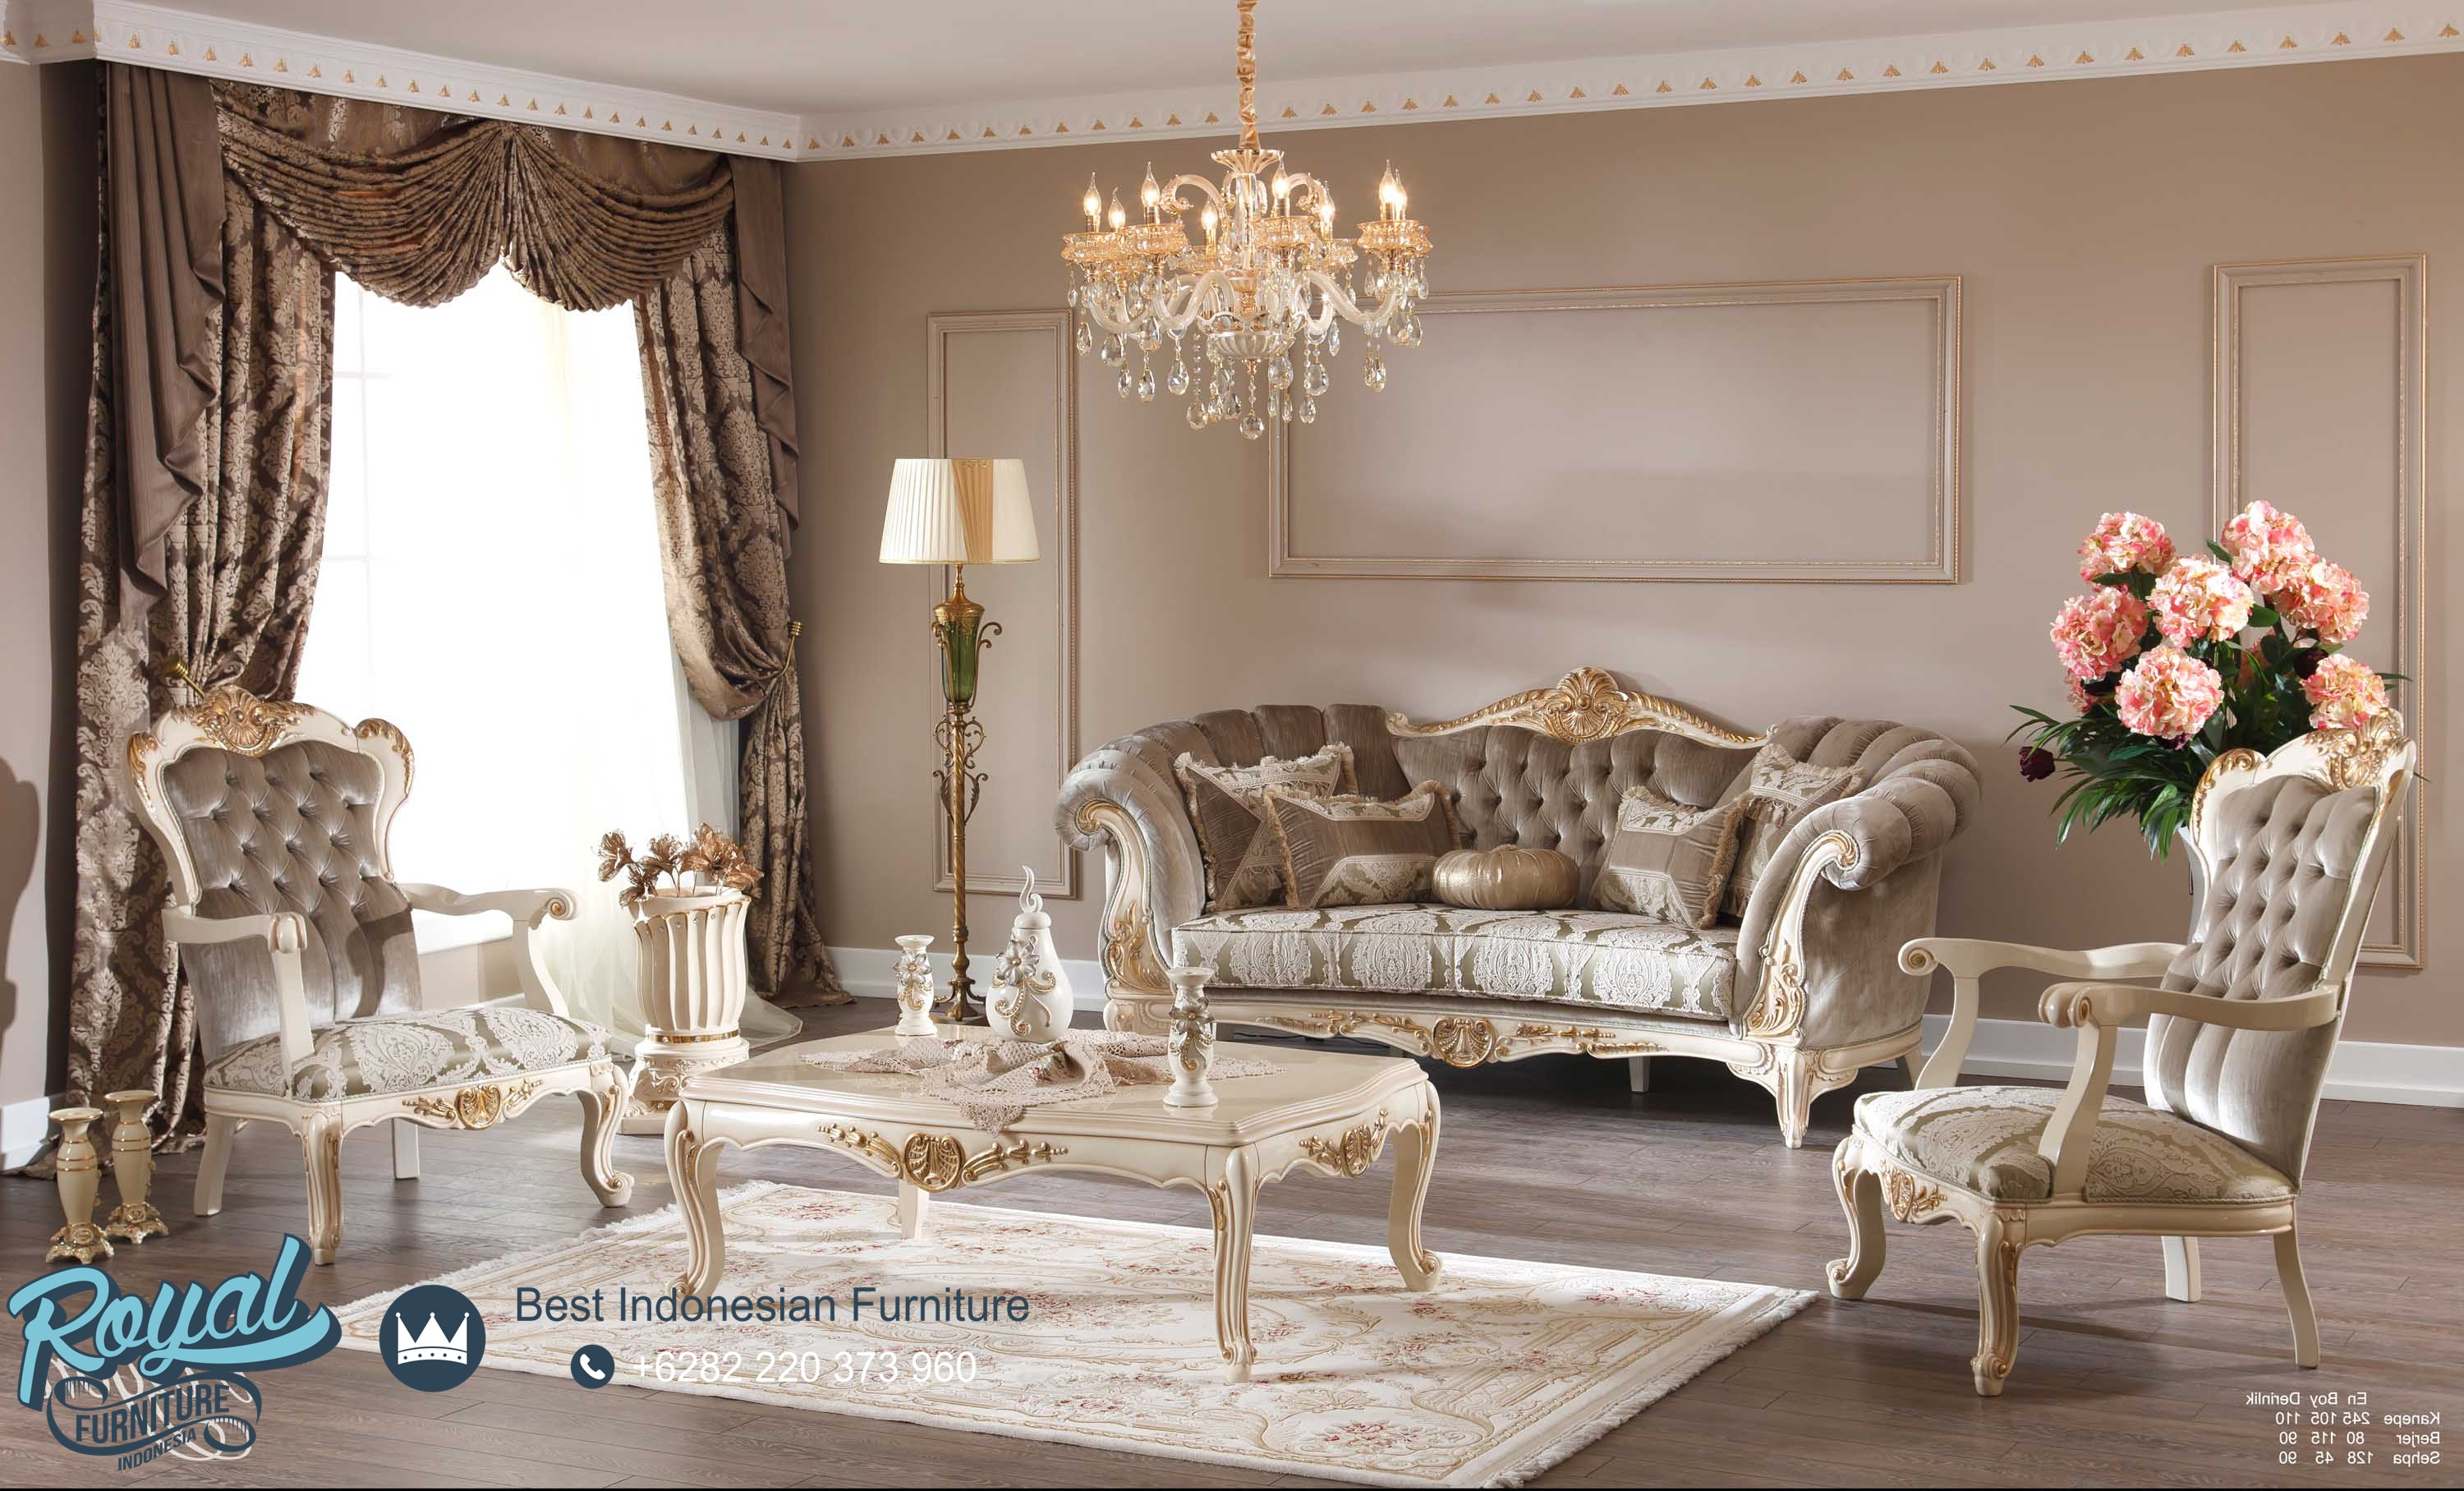Carving Chair: (1086, 699, 1952, 1134), (123, 708, 681, 1229), (1859, 773, 2369, 1334)
Carving Table: (653, 1012, 1468, 1375)
